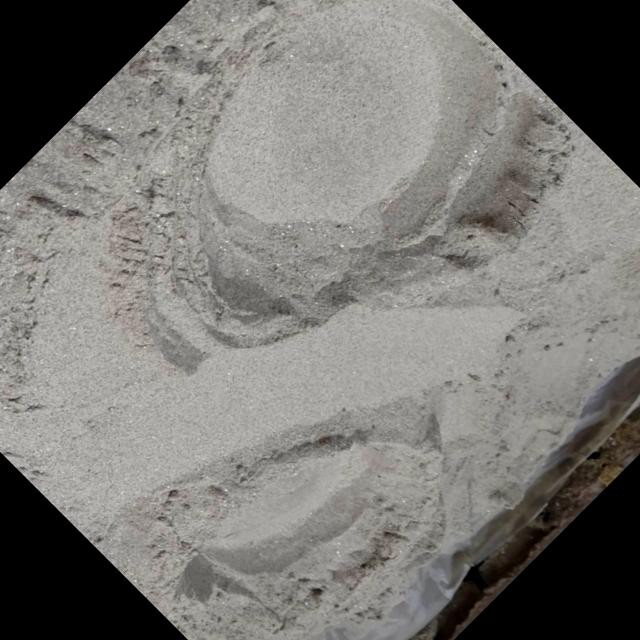C20: (151, 0, 567, 353), (204, 434, 440, 589)
